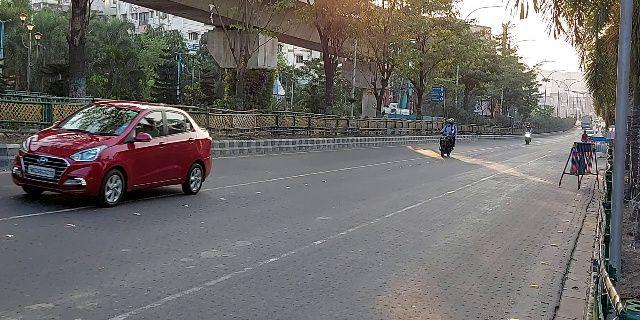Car: (9, 100, 214, 205), (436, 116, 459, 161)
